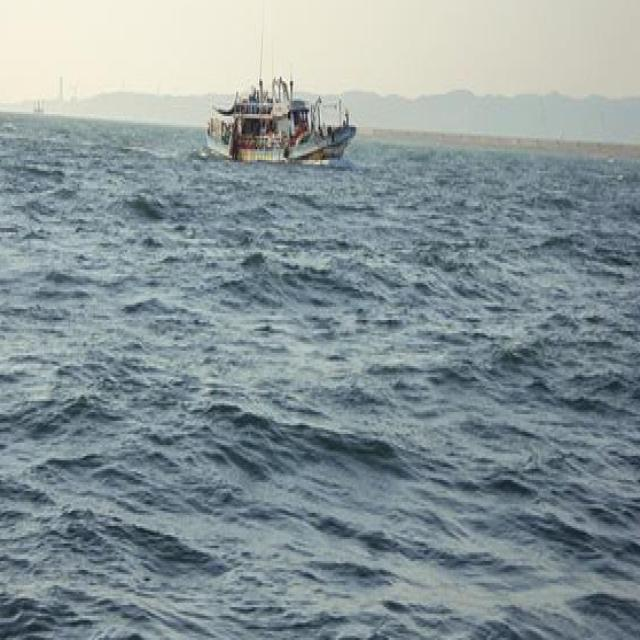fishing boat: (204, 51, 357, 169)
